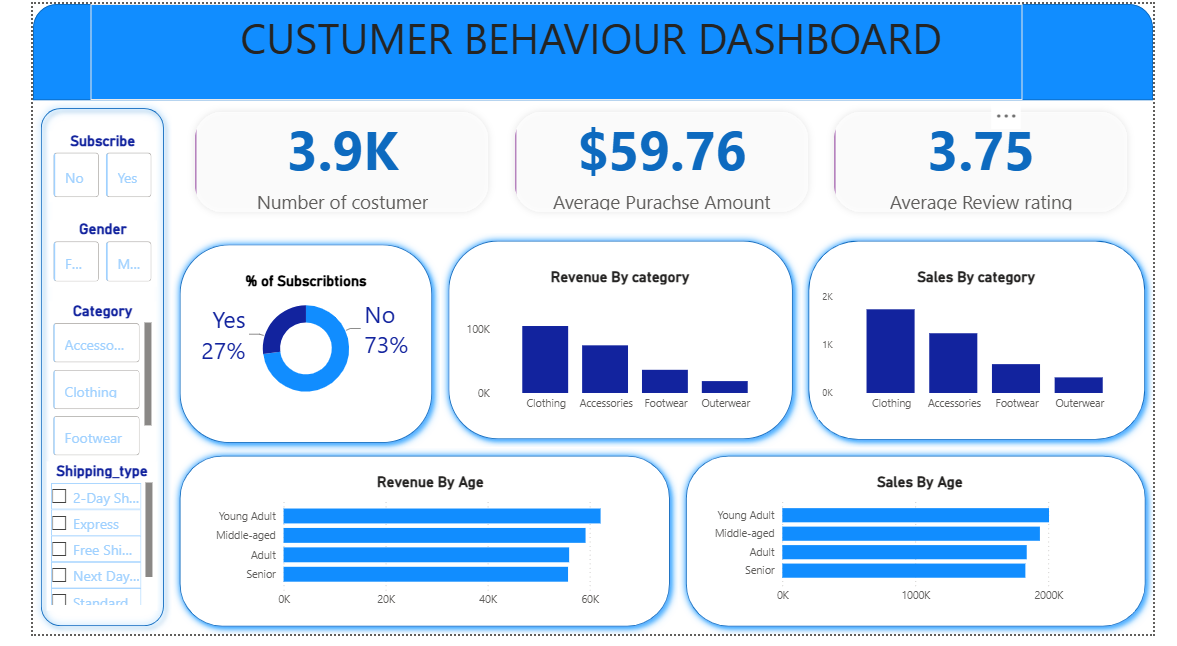

The dashboard page shown, as its layout file describes it:
{"tool":"powerbi","page":{"name":"Page 1","canvas":[1280,720],"ordinal":0},"visuals":[{"type":"cardVisual","fields":{"Data":["customer_behavior customer_shopping_behavior_cleaned.Number of costumer","customer_behavior customer_shopping_behavior_cleaned.Average Purachse Amount","customer_behavior customer_shopping_behavior_cleaned.Average Review rating"]},"box":[157.1,95.7,1122.9,170],"z":0},{"type":"shape","box":[0,0,1280,110],"z":1000},{"type":"textbox","box":[65,0,1065,110],"z":2000},{"type":"shape","box":[158.3,265,306.7,245],"z":3000},{"type":"donutChart","title":"% of Subscribtions","fields":{"Category":["customer_behavior customer_shopping_behavior_cleaned.subscription_status"],"Y":["CountNonNull(customer_behavior customer_shopping_behavior_cleaned.customer_id)"]},"box":[178.6,305.7,267.1,157.1],"z":4000},{"type":"shape","box":[465,261.7,411.7,245],"z":5000},{"type":"shape","box":[877.1,261.4,402.9,245.7],"z":6000},{"type":"clusteredColumnChart","title":"Revenue By category","fields":{"Y":["Sum(customer_behavior customer_shopping_behavior_cleaned.purchase_amount)"],"Category":["customer_behavior customer_shopping_behavior_cleaned.category"]},"box":[490,301.7,361.7,173.3],"z":7000},{"type":"clusteredColumnChart","title":"Sales By category","fields":{"Y":["CountNonNull(customer_behavior customer_shopping_behavior_cleaned.customer_id)"],"Category":["customer_behavior customer_shopping_behavior_cleaned.category"]},"box":[896.7,301.7,361.7,173.3],"z":8000},{"type":"shape","box":[0,110,158.6,610],"z":9000},{"type":"advancedSlicerVisual","title":"Subscribe","fields":{"Values":["customer_behavior customer_shopping_behavior_cleaned.subscription_status"]},"box":[19.2,146.2,122.3,80.8],"z":10000},{"type":"advancedSlicerVisual","title":"Gender","fields":{"Values":["customer_behavior customer_shopping_behavior_cleaned.gender"]},"box":[18.6,247.1,122.9,75.7],"z":11000},{"type":"advancedSlicerVisual","title":"Category","fields":{"Values":["customer_behavior customer_shopping_behavior_cleaned.category"]},"box":[18.9,340,122.2,182.2],"z":12000},{"type":"listSlicer","title":"Shipping_type","fields":{"Values":["customer_behavior customer_shopping_behavior_cleaned.shipping_type"]},"box":[15,522.5,126.2,170],"z":13000},{"type":"shape","box":[158.3,506.7,578.3,213.3],"z":14000},{"type":"shape","box":[736.7,506.7,543.3,213.3],"z":15000},{"type":"clusteredBarChart","title":"Revenue By Age","fields":{"Y":["Sum(customer_behavior customer_shopping_behavior_cleaned.purchase_amount)"],"Category":["customer_behavior customer_shopping_behavior_cleaned.age_group"]},"box":[198.9,535.6,511.1,163.3],"z":16000},{"type":"clusteredBarChart","title":"Sales By Age","fields":{"Y":["Sum(customer_behavior customer_shopping_behavior_cleaned.customer_id)"],"Category":["customer_behavior customer_shopping_behavior_cleaned.age_group"]},"box":[768.3,535,490,158.3],"z":17000}]}

Visuals, with their boxes in screenshot pixels (x1, y1, x2, y2), scaled from the page's 1280x720 canvas onto the 1177x646 screenshot:
cardVisual - customer_behavior customer_shopping_behavior_cleaned.Number of costumer x customer_behavior customer_shopping_behavior_cleaned.Average Purachse Amount: 144 86 1176 238
shape: 0 0 1176 99
textbox: 60 0 1039 99
shape: 146 238 428 458
"% of Subscribtions" donutChart: 164 274 410 415
shape: 428 235 806 455
shape: 807 235 1176 455
"Revenue By category" clusteredColumnChart: 451 271 783 426
"Sales By category" clusteredColumnChart: 825 271 1157 426
shape: 0 99 146 645
"Subscribe" advancedSlicerVisual: 18 131 130 204
"Gender" advancedSlicerVisual: 17 222 130 290
"Category" advancedSlicerVisual: 17 305 130 469
"Shipping_type" listSlicer: 14 469 130 621
shape: 146 455 677 645
shape: 677 455 1176 645
"Revenue By Age" clusteredBarChart: 183 481 653 627
"Sales By Age" clusteredBarChart: 706 480 1157 622
